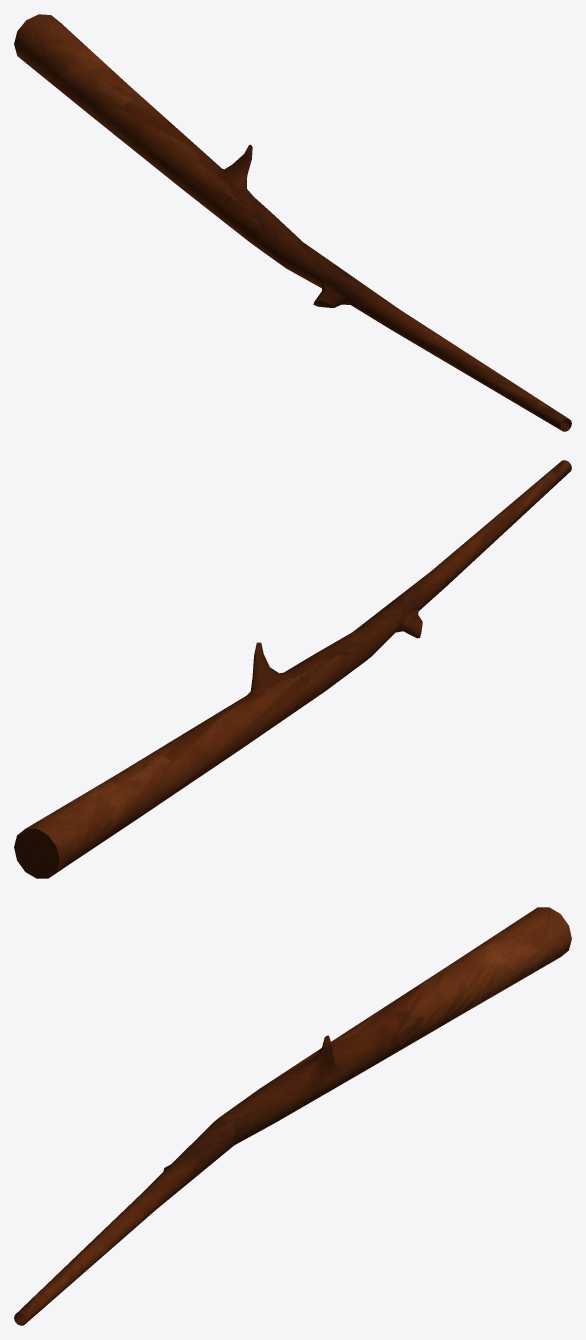
File: Hand Stick.fbx
3 views of the same model, one above another, from view 1: azimuth 30°, elevation 25°; view 2: azimuth 150°, elevation 25°; view 3: azimuth 330°, elevation 25° (orthographic).
Visible parts, largest first — view 1: BezierCurve.001; view 2: BezierCurve.001; view 3: BezierCurve.001.
Boxes of the visible parts, left/top/right/bottom form: BezierCurve.001: left=14, top=14, right=571, bottom=431; BezierCurve.001: left=14, top=460, right=571, bottom=878; BezierCurve.001: left=14, top=907, right=571, bottom=1325.
Size of the model in its own units: 7.78 by 7.5 by 91.65.
